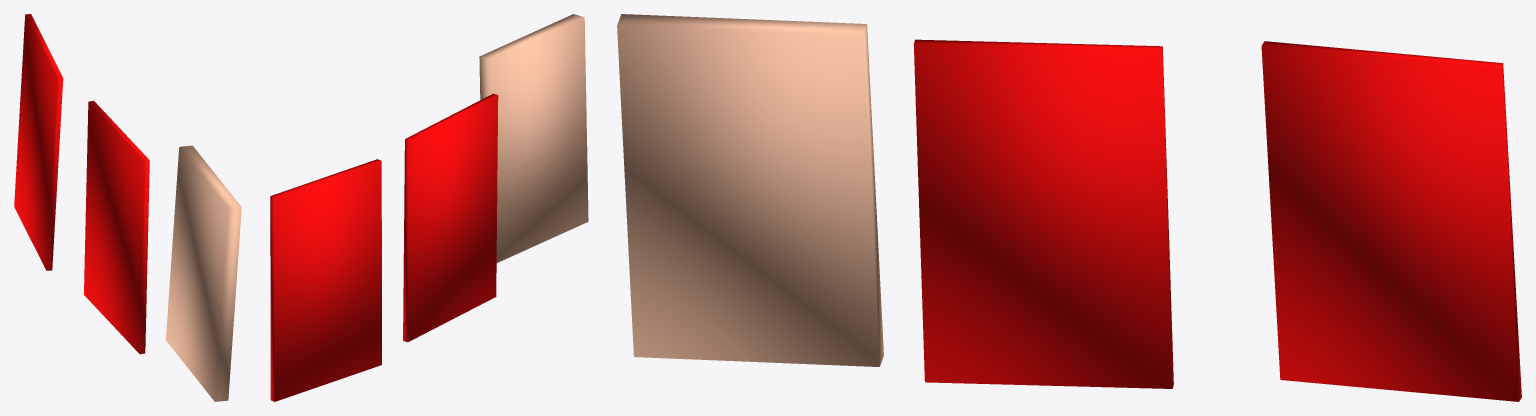
Rendered from book.fbx.
3 renders of one model, left to right at view 1: azimuth 30°, elevation 25°; view 2: azimuth 150°, elevation 25°; view 3: azimuth 270°, elevation 25°, orthographic. The views are drawn at different scales.
Visible parts, largest first — view 1: s.0134, s.0138, s.0135; view 2: s.0135, s.0134, s.0138; view 3: s.0134, s.0138, s.0135.
Boxes of the visible parts, x1,y1,x2,y2 form: s.0134: (165, 145, 241, 401); s.0138: (84, 100, 149, 354); s.0135: (14, 14, 63, 270); s.0135: (270, 159, 381, 401); s.0134: (479, 14, 588, 262); s.0138: (403, 93, 498, 342); s.0134: (617, 14, 883, 366); s.0138: (913, 39, 1173, 388); s.0135: (1261, 41, 1521, 401).
Bounding box in the file's own units: 5.15 × 36.24 × 16.48.
